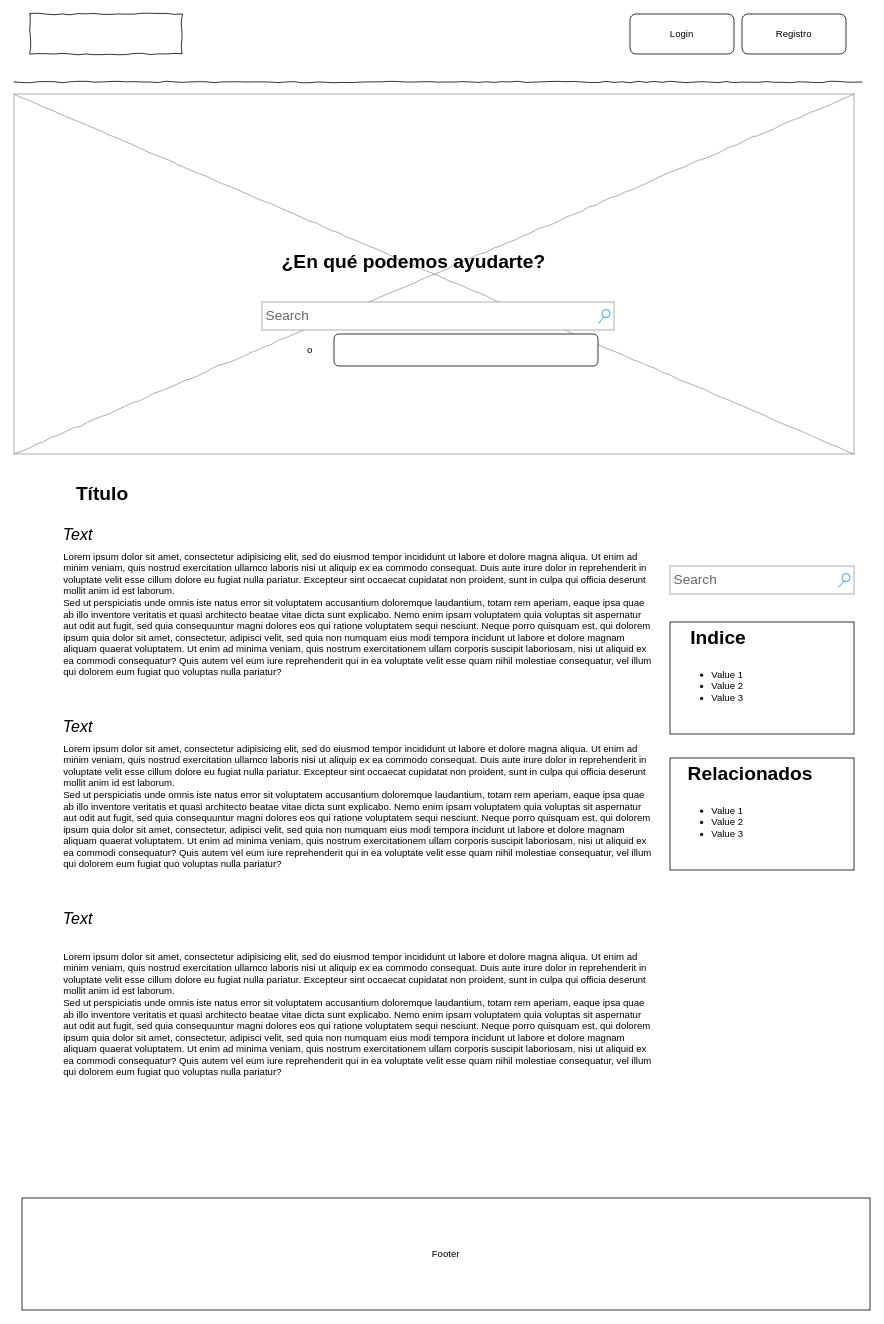
Some shapes in this 884 by 1324 pixel diagram are drawn without their labels. The shapes that lost their labels are listed below. From the top down, each one's box as (x1, y1, x2, y2) in pixels, then its label:
(29, 13, 182, 54): LOGO
(333, 333, 598, 366): Habla con nosotros
